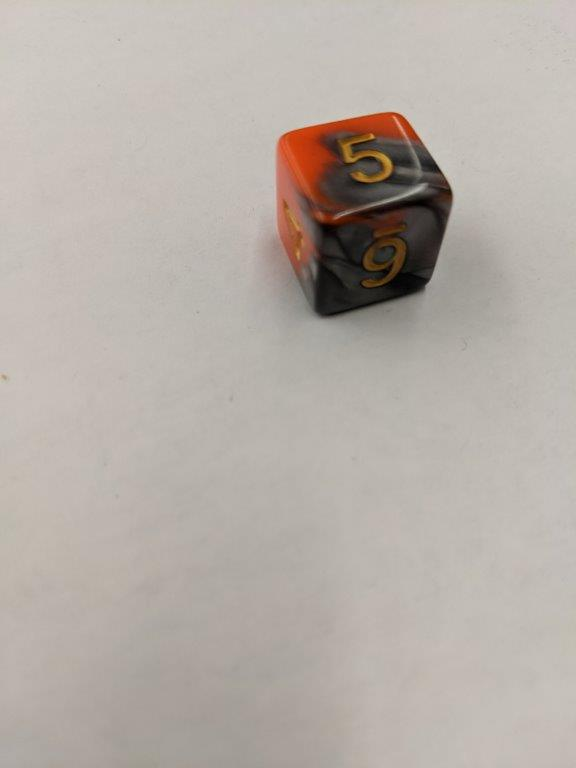d6-5: (271, 110, 453, 317)
